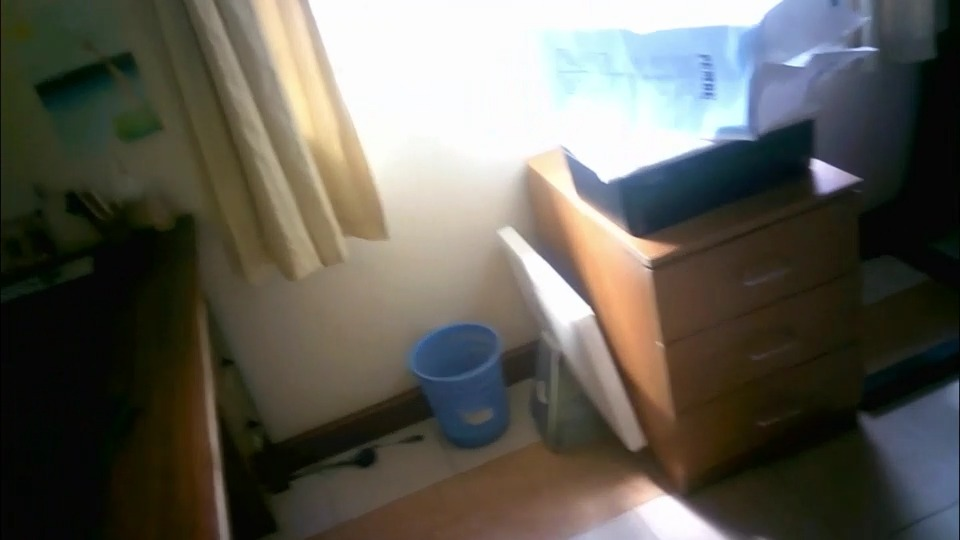wheat_flour_blue_label: (550, 5, 872, 136)
